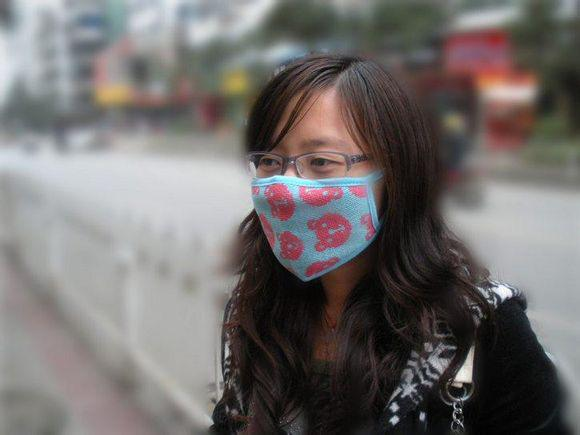OK: (249, 140, 376, 275)
